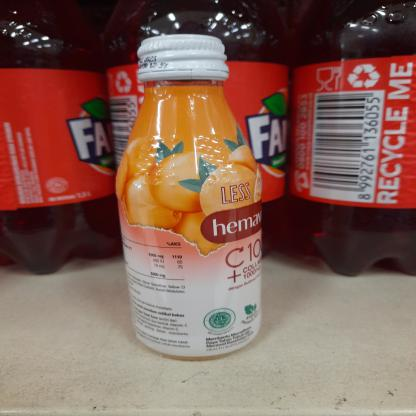keyboard: (110, 30, 270, 362)
